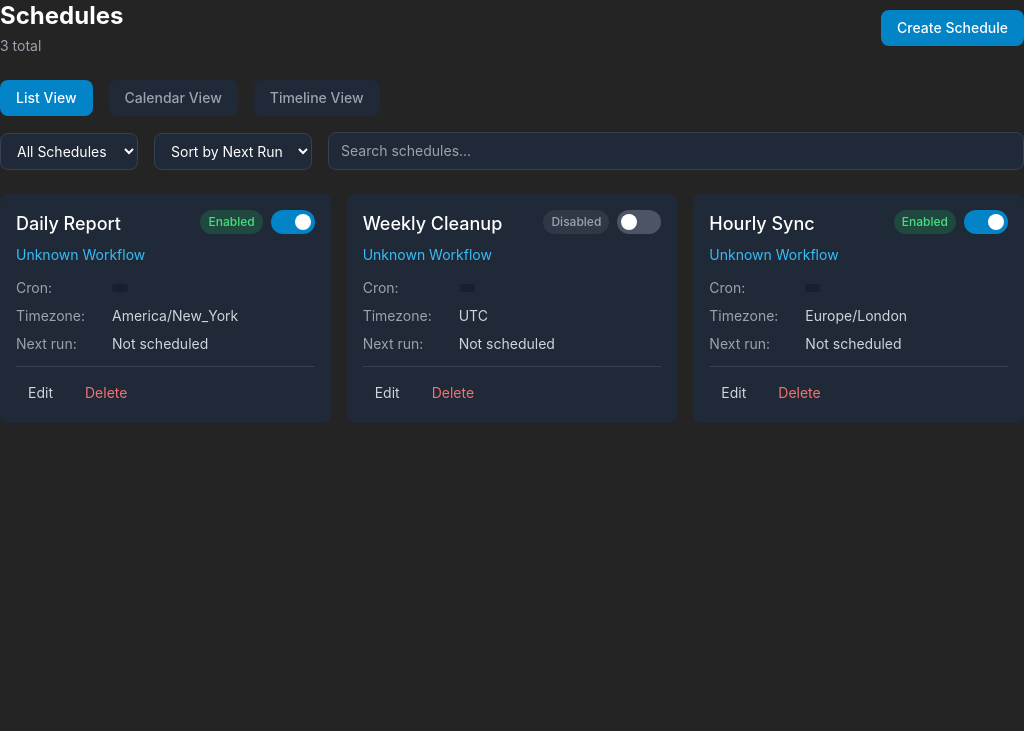
Test case: Schedules Page Integration Tests › View Mode Switching › should switch back to list view
Click the button "Calendar View": point(173, 98) [108,80,238,116]
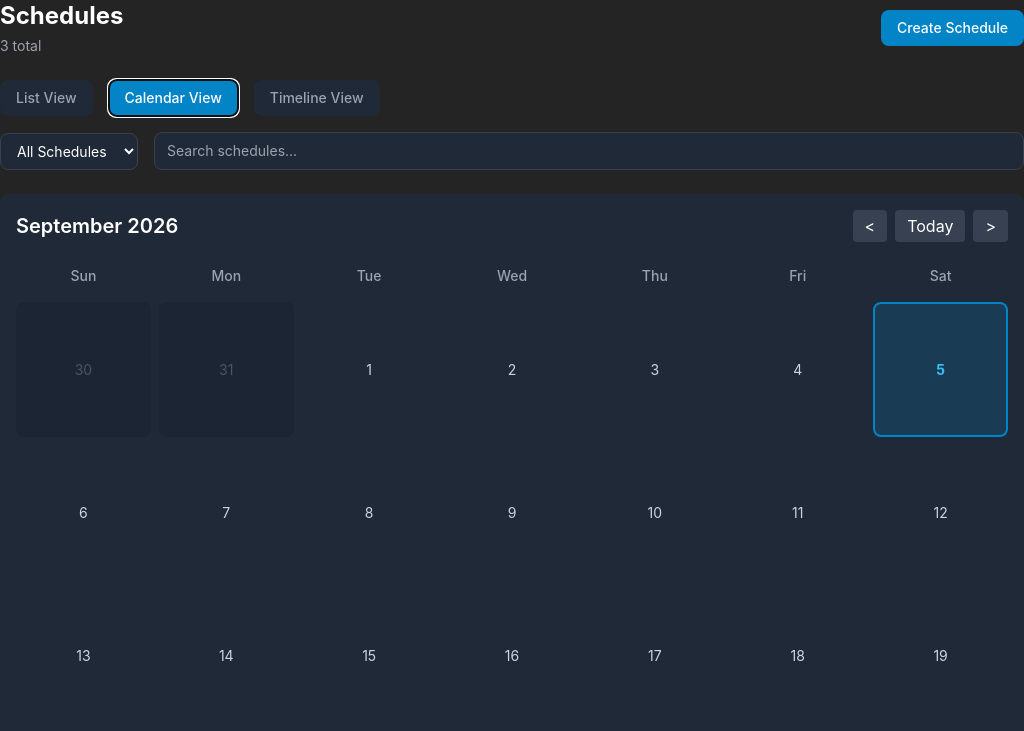
Click the button "List View": point(46, 98) [0,80,92,116]
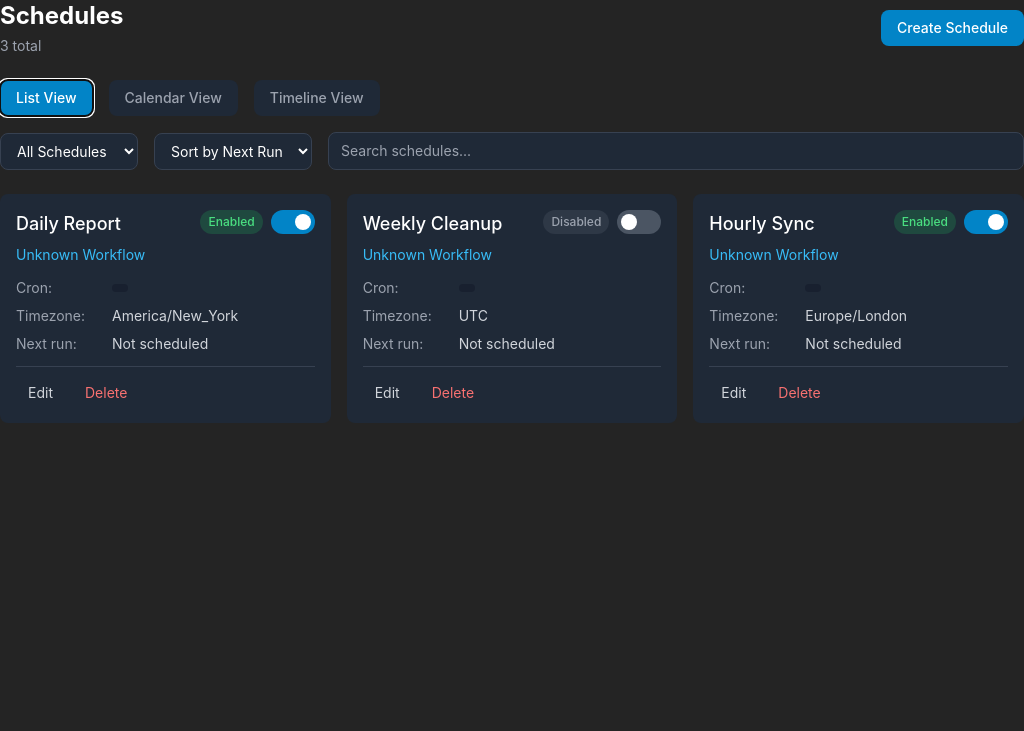
Result: the heading "Daily Report" is shown at [16,213,121,234]
